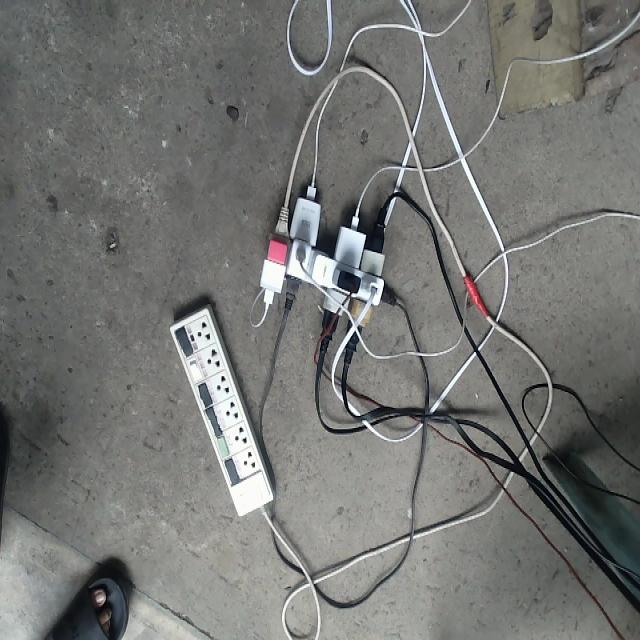-: (258, 180, 398, 359)
